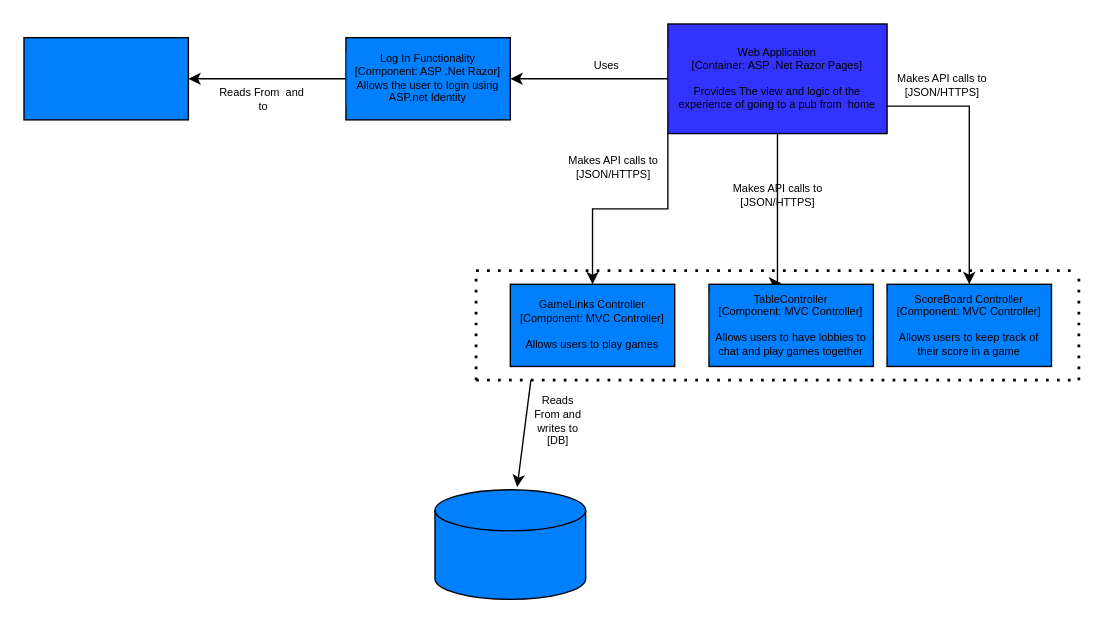
Image size: 1106x623. Some labels were removed from this diagram. Here are the shapes that lost their labels. From the top down, the box of each, then its label:
(23, 36, 188, 120): DataBase [Container: AWS] Stores information about login and user accounts.
(434, 488, 586, 599): Database [Container: AWS] Stores Data about Gamelinks, Tables and Scoreboards
